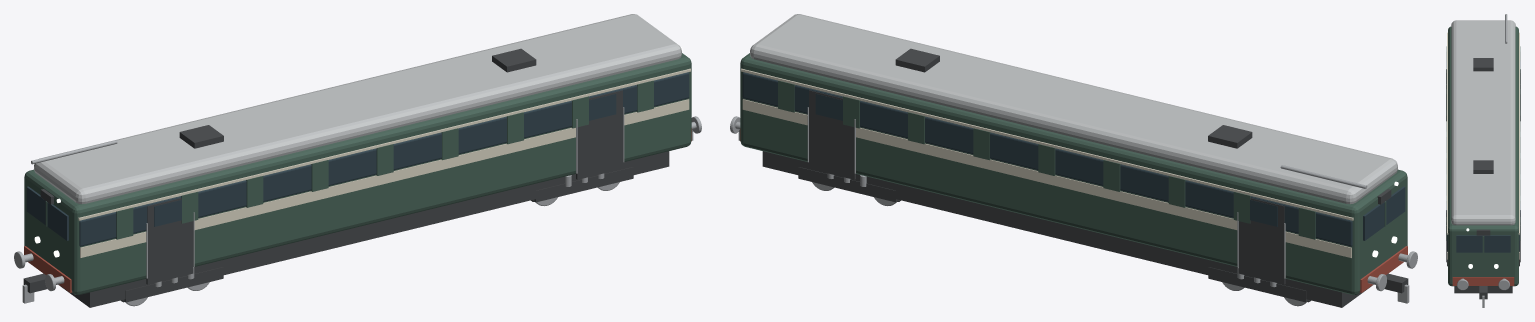
File: train.glb
3 renders of one model, left to right at view 1: azimuth 30°, elevation 25°; view 2: azimuth 150°, elevation 25°; view 3: azimuth 270°, elevation 25°, orthographic. The views are drawn at different scales.
Parts seen in each view (by area): view 1: roof, body, winband, under, band, door_-6.6_-1, door_6.6_-1, gutter, bframe_-6.3_-1, bframe_6.3_-1, cabwin_-1, exhaust_4.8 (+13 smaller); view 2: roof, body, winband, under, band, door_-6.6_1, door_6.6_1, gutter, bframe_-6.3_1, bframe_6.3_1, cabwin_-1, exhaust_4.8 (+13 smaller); view 3: roof, body, cabwin_1, bufbeam_1, gutter, under, exhaust_-4.8, exhaust_4.8, coupler_1, bufhead_1_-0.82, bufhead_1_0.82, blind_1 (+1 smaller).
Boxes of the visible parts, left/top/right/bottom form: roof: left=34, top=14, right=681, bottom=204; body: left=24, top=53, right=691, bottom=294; winband: left=79, top=72, right=689, bottom=246; under: left=58, top=151, right=669, bottom=307; band: left=80, top=99, right=689, bottom=257; door_-6.6_-1: left=146, top=198, right=193, bottom=284; door_6.6_-1: left=576, top=90, right=622, bottom=179; gutter: left=78, top=68, right=690, bottom=220; bframe_-6.3_-1: left=124, top=267, right=223, bottom=302; bframe_6.3_-1: left=534, top=167, right=633, bottom=202; cabwin_-1: left=26, top=186, right=68, bottom=240; exhaust_4.8: left=492, top=48, right=536, bottom=72; roof: left=750, top=14, right=1397, bottom=204; body: left=740, top=53, right=1407, bottom=294; winband: left=742, top=72, right=1352, bottom=246; under: left=762, top=151, right=1373, bottom=307; band: left=742, top=99, right=1351, bottom=257; door_-6.6_1: left=1238, top=198, right=1285, bottom=284; door_6.6_1: left=809, top=90, right=855, bottom=179; gutter: left=741, top=68, right=1353, bottom=220; bframe_-6.3_1: left=1208, top=267, right=1307, bottom=302; bframe_6.3_1: left=798, top=167, right=897, bottom=202; cabwin_-1: left=1363, top=186, right=1405, bottom=240; exhaust_4.8: left=895, top=48, right=939, bottom=72; roof: left=1451, top=20, right=1515, bottom=225; body: left=1448, top=26, right=1518, bottom=286; cabwin_1: left=1456, top=235, right=1510, bottom=252; bufbeam_1: left=1452, top=277, right=1514, bottom=285; gutter: left=1447, top=32, right=1519, bottom=234; under: left=1454, top=286, right=1512, bottom=293; exhaust_-4.8: left=1473, top=58, right=1493, bottom=71; exhaust_4.8: left=1473, top=160, right=1493, bottom=173; coupler_1: left=1479, top=286, right=1487, bottom=299; bufhead_1_-0.82: left=1457, top=279, right=1468, bottom=290; bufhead_1_0.82: left=1498, top=279, right=1509, bottom=290; blind_1: left=1476, top=229, right=1490, bottom=235.
Bounding box in the file's own units: 20.54 × 4.16 × 2.96.
